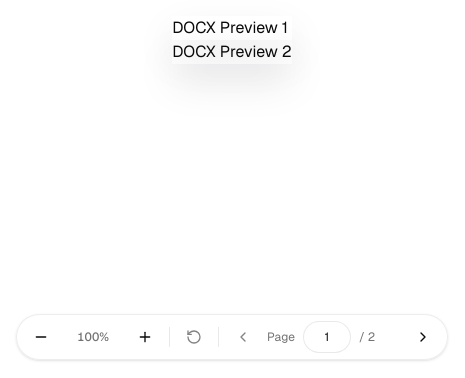
Test: file space docx preview › renders bottom zoom and page controls for docx files
Expected: the text "DOCX Preview 2" is shown, [172,40,292,64]
Expected: the element named "Document preview" is shown, [172,16,292,64]
Click the button named "Zoom in".
click(145, 337)  # box [129,321,161,353]
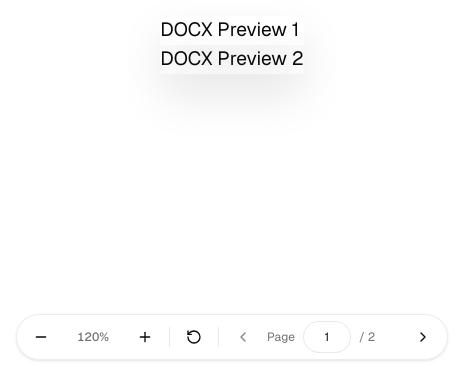
Expected: the text "120%" is shown, [77,329,109,345]
Click the button named "Next document page".
click(423, 337)  # box [407,321,439,353]
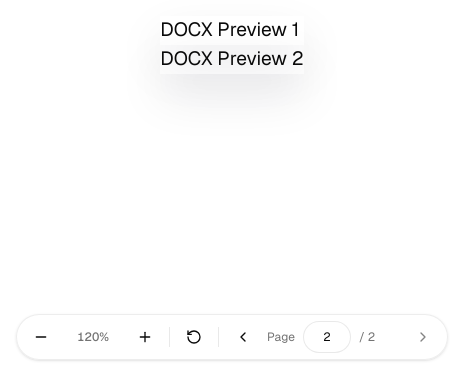
Expected: the field named "Jump to document page" holds "2", [303,321,351,353]
